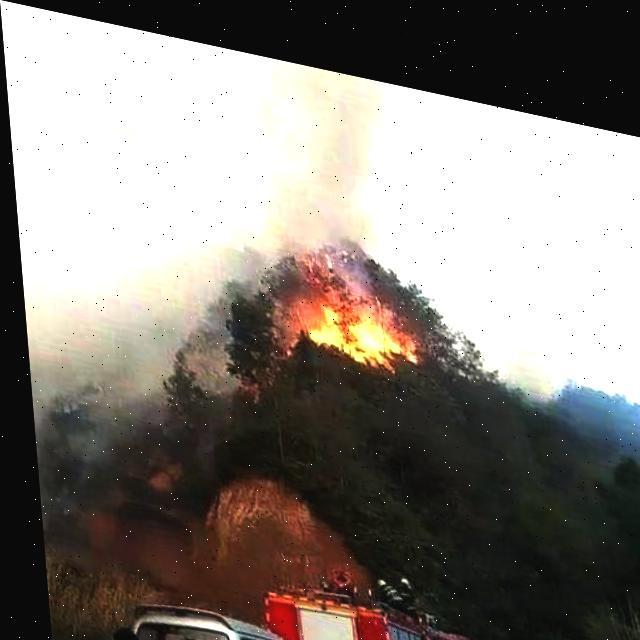Fire: (298, 272, 416, 368)
